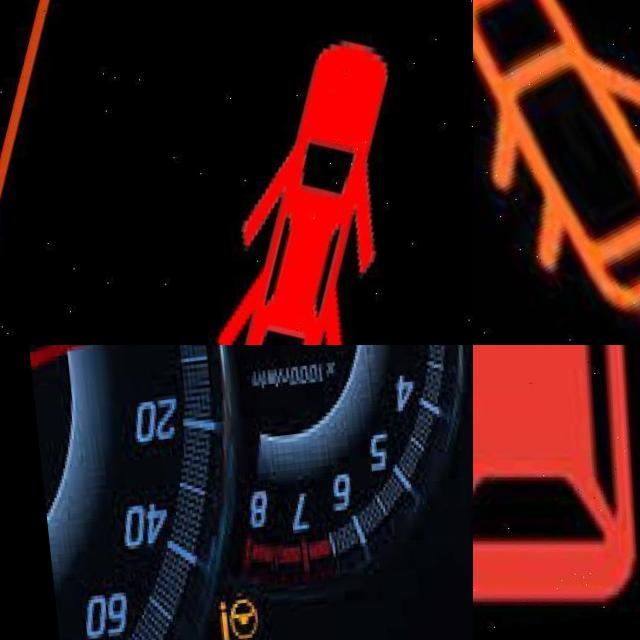Electronic Power Steering: (199, 598, 247, 640)
